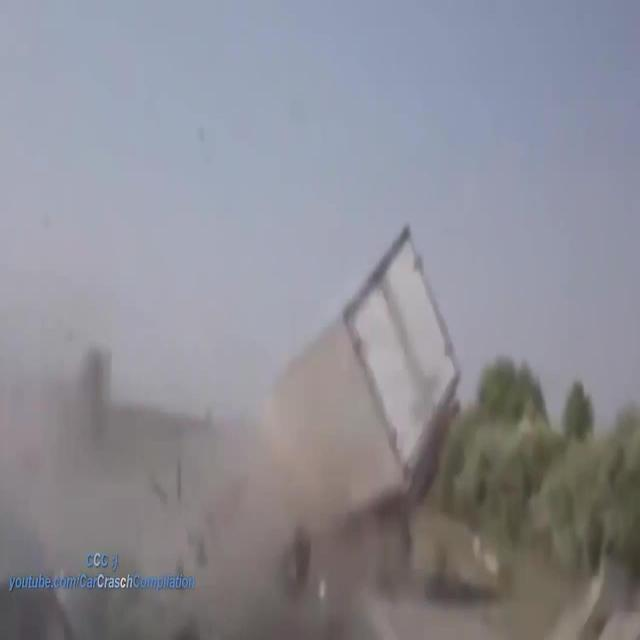severe: (206, 210, 464, 583)
